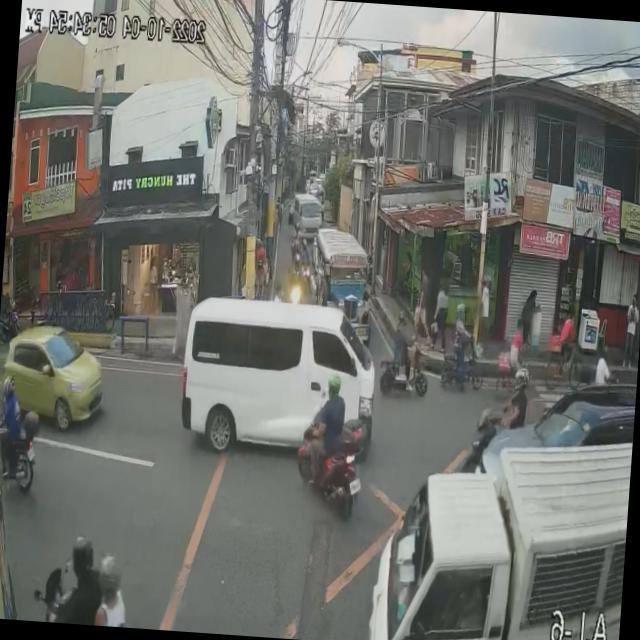full: (514, 364, 532, 392)
half: (67, 532, 97, 580), (98, 550, 122, 594)
invalid: (327, 369, 342, 398)
